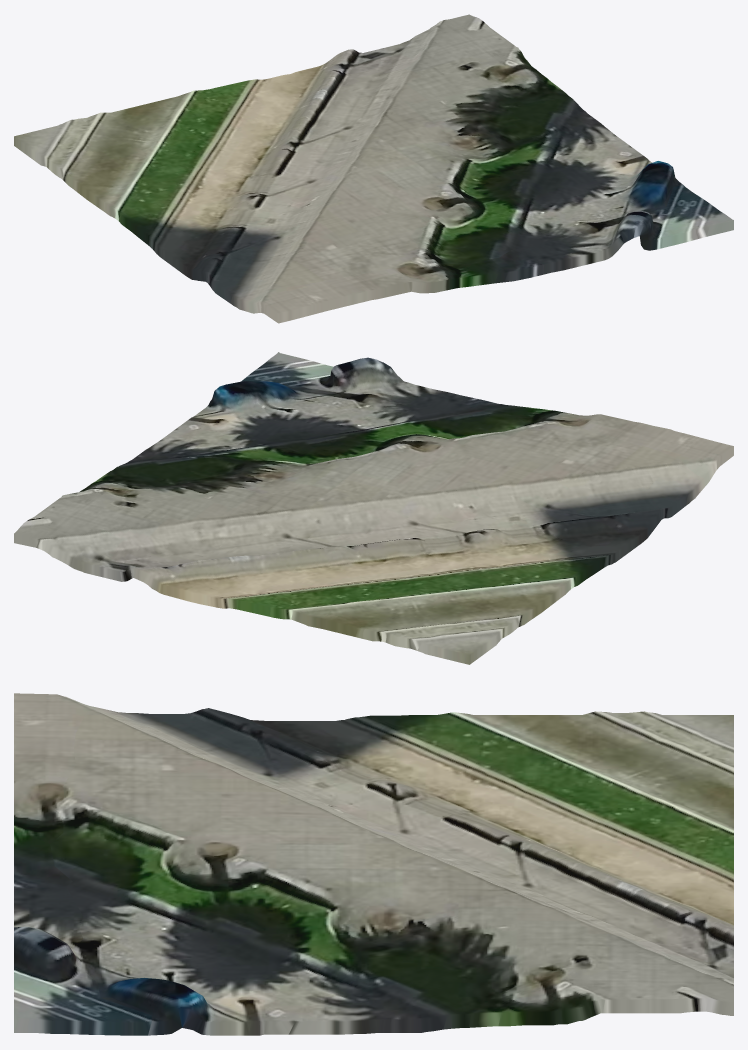
Rendered from z20-167789-405224-h0-yup-uvflip-v3-world.glb.
The picture shows the model from 3 angles, top to bottom: view 1: azimuth 30°, elevation 25°; view 2: azimuth 150°, elevation 25°; view 3: azimuth 270°, elevation 25°; orthographic projection. The views are drawn at different scales.
Size of the model in its own units: 30.16 by 2 by 30.32.
Materials: 1 (1 with a texture image).
